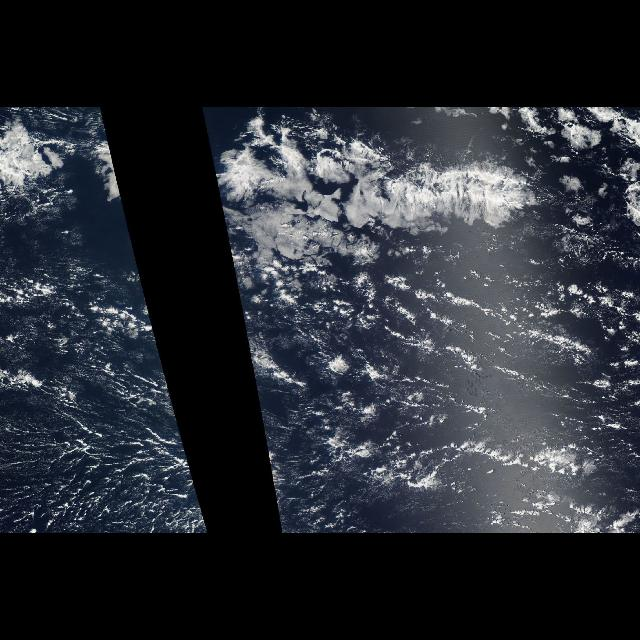Fish: (207, 113, 541, 243)
Flower: (488, 107, 640, 237)
Sugar: (10, 364, 208, 532), (252, 365, 416, 531)
